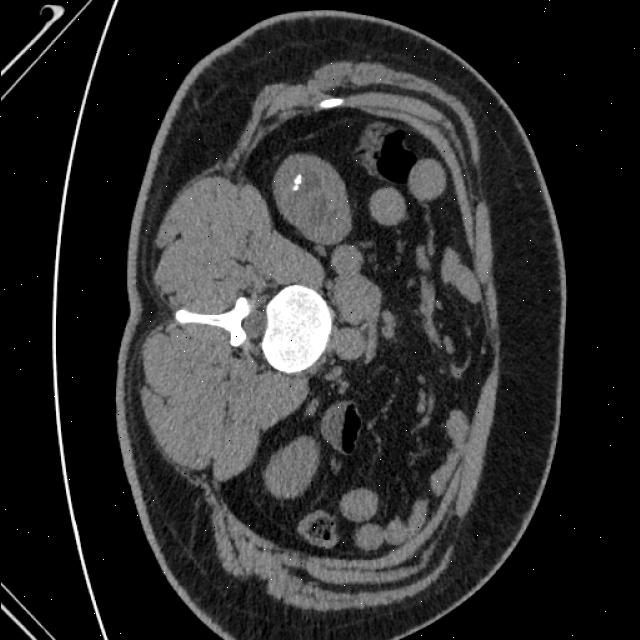kidneystone: (292, 176, 301, 191)
